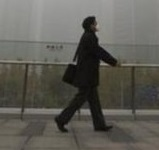person: (54, 15, 119, 132)
